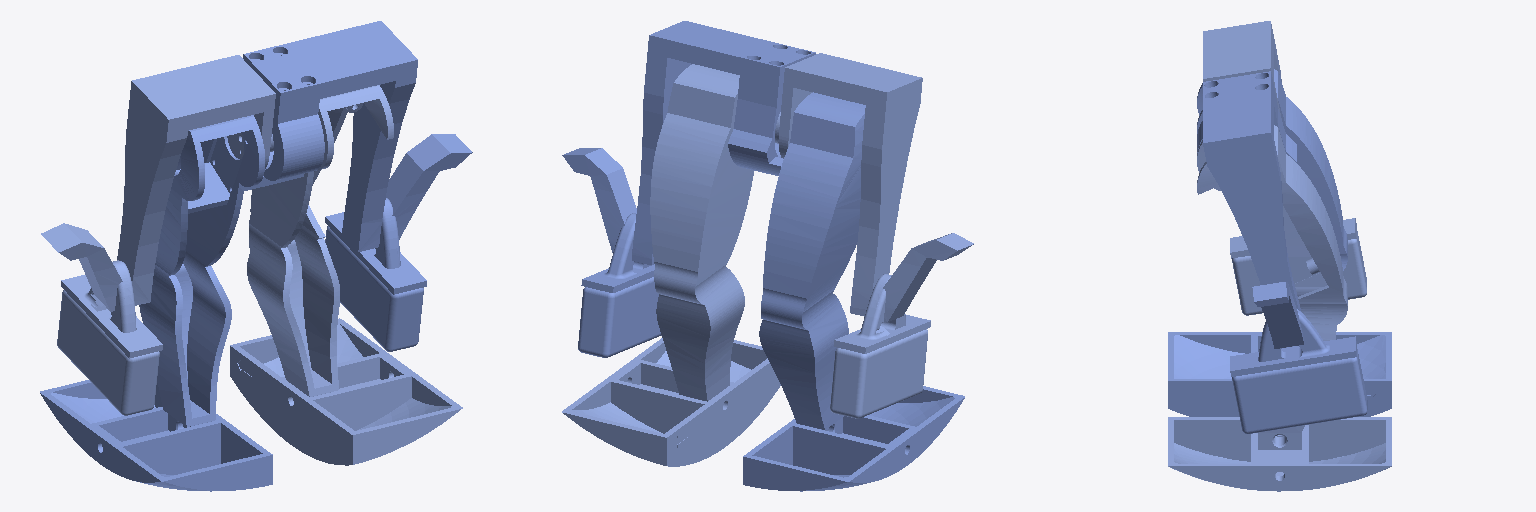
URDF robot description (onshape):
<robot name="onshape">
  <link name="right_leg">
    <visual>
      <origin xyz="0 0 0" rpy="0 -0 0" />
      <geometry>
        <mesh filename="right_leg_visual.stl" />
      </geometry>
      <material name="right_leg_material">
        <color rgba="0.62381260296990748149 0.71154009872000811843 0.93308919815670299247 1.0" />
      </material>
    </visual>
    <collision>
      <origin xyz="0 0 0" rpy="0 -0 0" />
      <geometry>
        <mesh filename="right_leg_collision.stl" />
      </geometry>
    </collision>
    <inertial>
      <origin xyz="-0.029251686360109632051 0.030419294575498329047 -0.10611825963484414204"
        rpy="0 0 0" />
      <mass value="0.39597688179033829758" />
      <inertia ixx="0.0011937054740806831137" ixy="4.453328848433648501e-05"
        ixz="0.00038867615933425430372" iyy="0.0020223835438831542187"
        iyz="7.6511419319811566119e-05" izz="0.0011525854397805663717" />
    </inertial>
  </link>

  <link name="left_leg">
    <visual>
      <origin xyz="0 0 0" rpy="0 -0 0" />
      <geometry>
        <mesh filename="left_leg_visual.stl" />
      </geometry>
      <material name="left_leg_material">
        <color rgba="0.57601720395855515733 0.66856832501362561949 0.91626224830531333154 1.0" />
      </material>
    </visual>
    <collision>
      <origin xyz="0 0 0" rpy="0 -0 0" />
      <geometry>
        <mesh filename="left_leg_collision.stl" />
      </geometry>
    </collision>
    <inertial>
      <origin xyz="0.015830994313756244218 0.08658293857595017462 -0.019316826607899253987"
        rpy="0 0 0" />
      <mass value="0.4139512965380884868" />
      <inertia ixx="0.0021694157004607502251" ixy="-0.00010184426068827120439"
        ixz="5.0544566398024546997e-05" iyy="0.0011859207889260213291"
        iyz="-0.00035136756416844909827" izz="0.0013250893011849313764" />
    </inertial>
  </link>

  <joint name="hip" type="revolute">
    <origin xyz="-0.020822569739601518024 0.013936485767817355028 -0.016207791599193055454"
      rpy="-1.570796326794896558 -0 1.570796326794896558" />
    <parent link="right_leg" />
    <child link="left_leg" />
    <axis xyz="0 0 1" />
    <limit effort="1" velocity="20" lower="-1.570796326794896558" upper="1.570796326794896558" />
    <joint_properties friction="0.0" />
  </joint>


</robot>

--- What the picture shows (computed from the rendered views, not written in the file) ---
Views: 3 orthographic renders of the robot side by side, from view 1: azimuth 30°, elevation 25°; view 2: azimuth 150°, elevation 25°; view 3: azimuth 270°, elevation 25°.
Model onshape with 2 links and 1 joints (1 revolute), rooted at right_leg, posed all joints at 0.
Links seen in each view (by area): view 1: left_leg, right_leg; view 2: right_leg, left_leg; view 3: left_leg, right_leg.
Boxes of the visible links, x1=… form: left_leg: x1=40, y1=21, x2=472, y2=491; right_leg: x1=41, y1=55, x2=462, y2=465; right_leg: x1=562, y1=53, x2=973, y2=466; left_leg: x1=562, y1=21, x2=964, y2=491; left_leg: x1=1168, y1=69, x2=1391, y2=433; right_leg: x1=1168, y1=21, x2=1391, y2=491.
Bounding box of the posed robot: 0.1982 × 0.102 × 0.1866 m (x, y, z).
Meshes: 2 distinct files referenced, 2 mesh visuals loaded (2 binary STL).